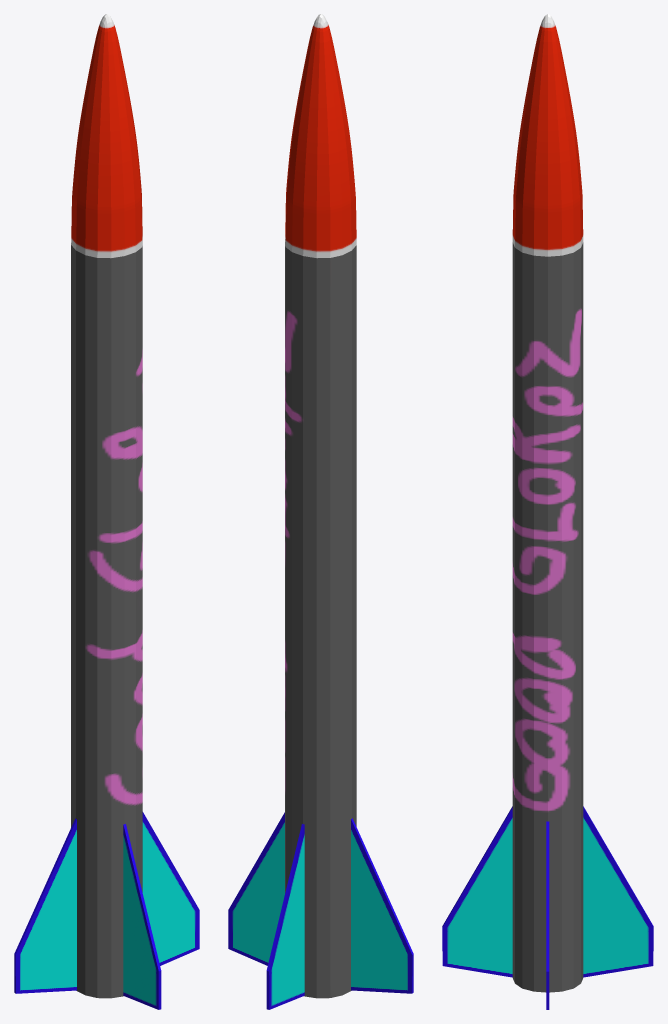
File: NewMissile.glb
The picture shows the model from 3 angles, left to right: view 1: azimuth 30°, elevation 25°; view 2: azimuth 150°, elevation 25°; view 3: azimuth 270°, elevation 25°; orthographic projection.
Parts seen in each view (by area): view 1: Missile-convcol; view 2: Missile-convcol; view 3: Missile-convcol.
Part boxes in pixels (x1=…): Missile-convcol: x1=14, y1=14, x2=199, y2=1009; Missile-convcol: x1=228, y1=14, x2=413, y2=1009; Missile-convcol: x1=442, y1=14, x2=653, y2=1009.
Size of the model in its own units: 0.4278 by 2.15 by 0.4278.
Materials: 1 (1 with a texture image).
